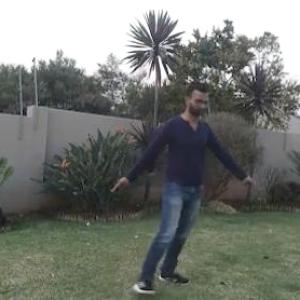land: (90, 67, 268, 297)
